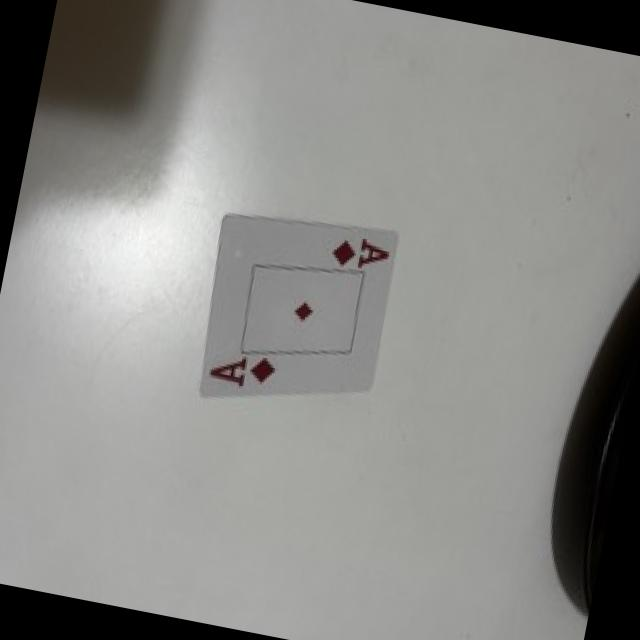Ace of diamonds: (199, 215, 397, 397)
